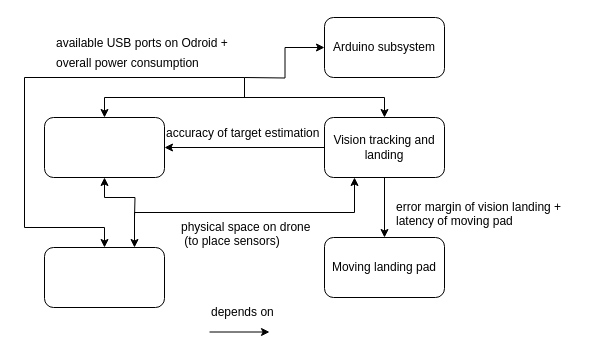
This 592x358 diagram has some shape labels left out. Here are the shapes that lost their labels. From the top down, the centre of each, then its label:
(x=104, y=147): Tracking a moving target (GPS)
(x=104, y=277): Obstacle avoidance
